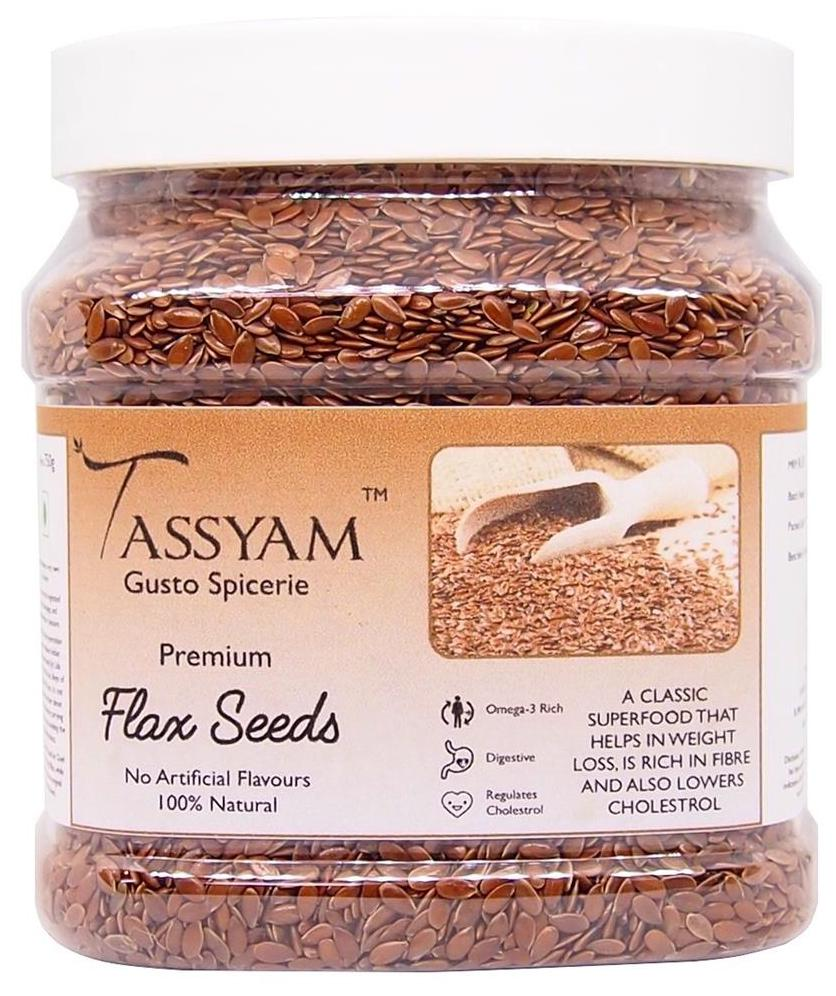JAR: (12, 6, 830, 977)
